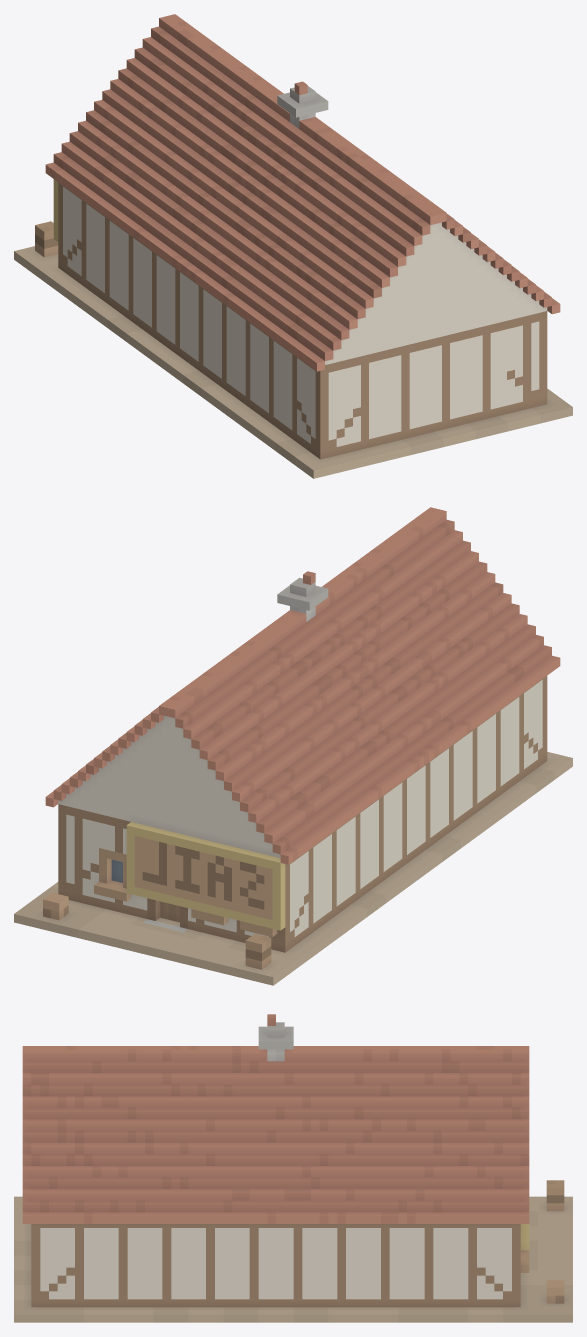
The model's file is sailmaker.glb.
3 views of the same model, one above another, from view 1: azimuth 30°, elevation 25°; view 2: azimuth 150°, elevation 25°; view 3: azimuth 270°, elevation 25° (orthographic). The views are drawn at different scales.
Parts seen in each view (by area): view 1: sailmaker; view 2: sailmaker; view 3: sailmaker.
Part boxes in pixels (box(x1,y1,x2,y2)): sailmaker: box(14, 14, 572, 478); sailmaker: box(14, 507, 572, 985); sailmaker: box(14, 1014, 572, 1322).
Bounding box in the file's own units: 4 × 3.88 × 8.
